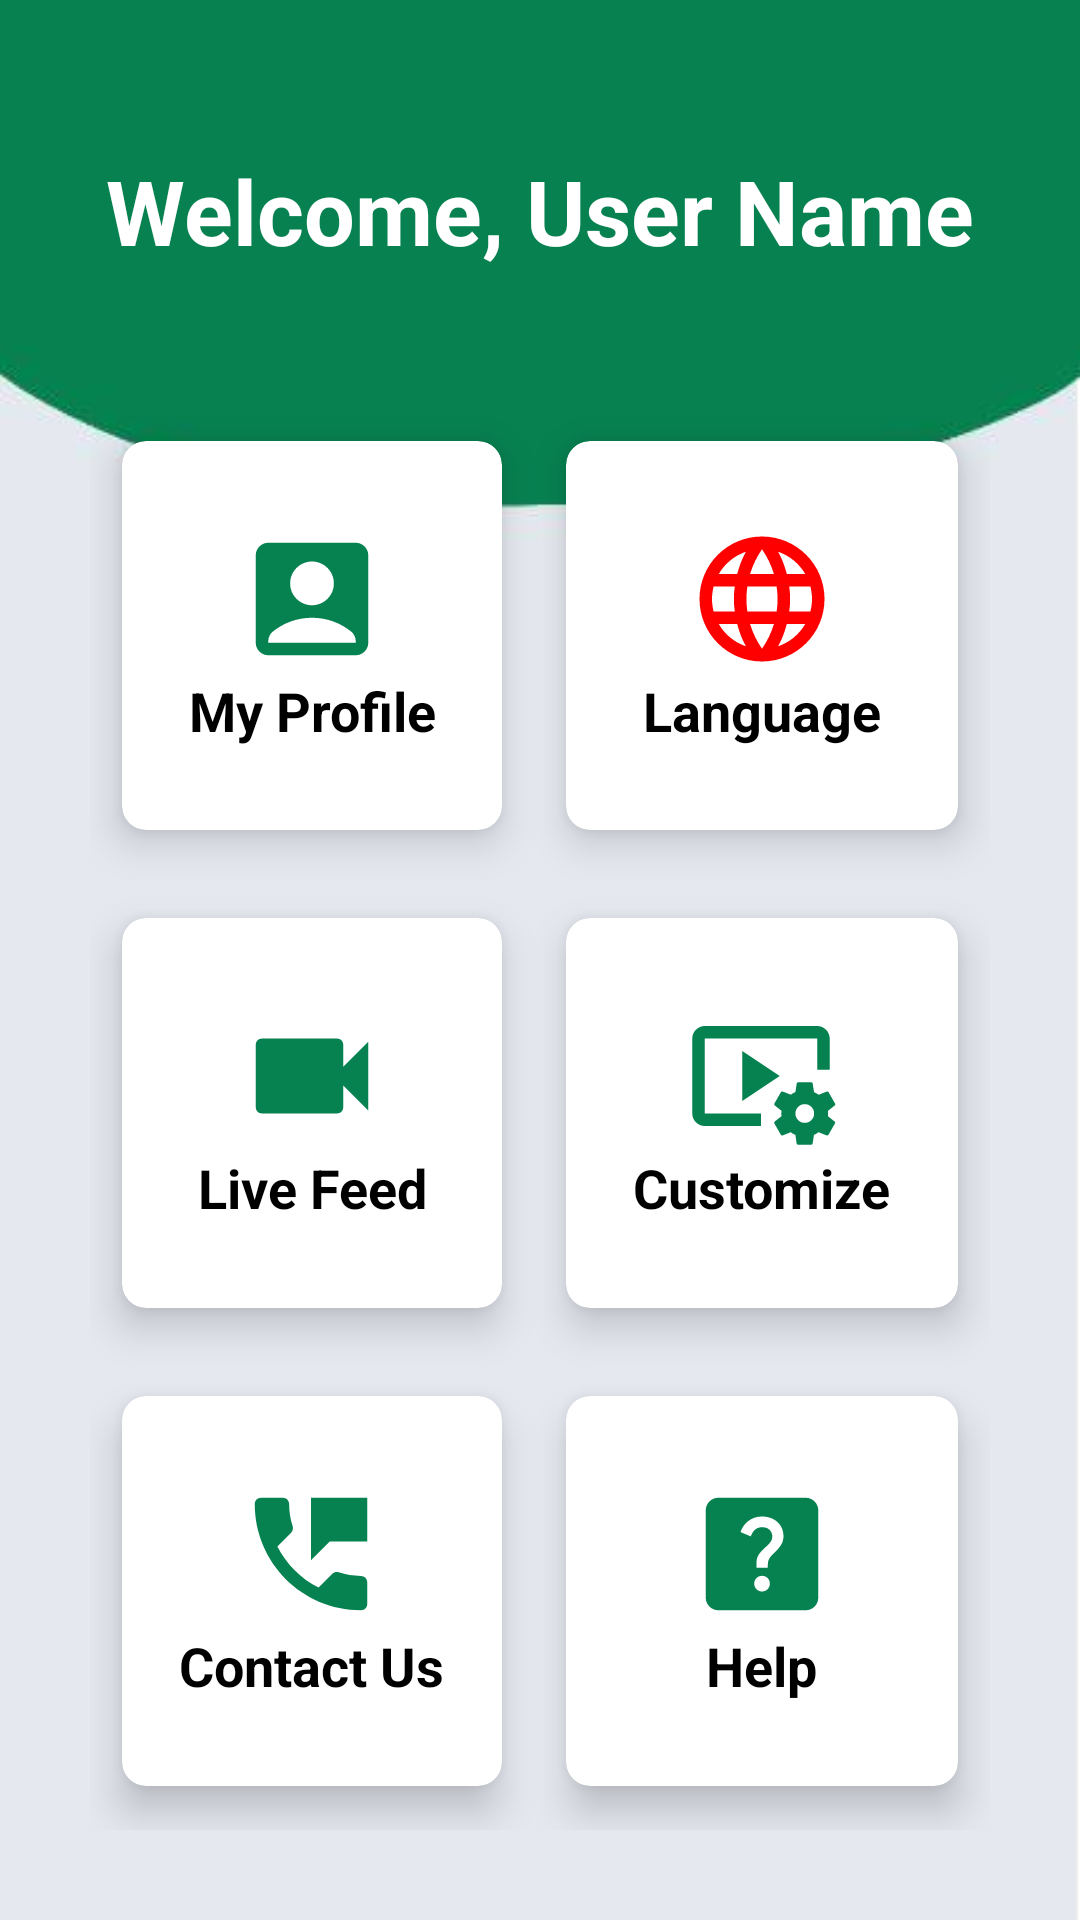

Icons on this 1080*1920 Android screen, each with the point to tap as [x,y]:
account box: [312,599]
perm phone msg: [311,1554]
video settings: [764,1085]
videocam: [312,1076]
